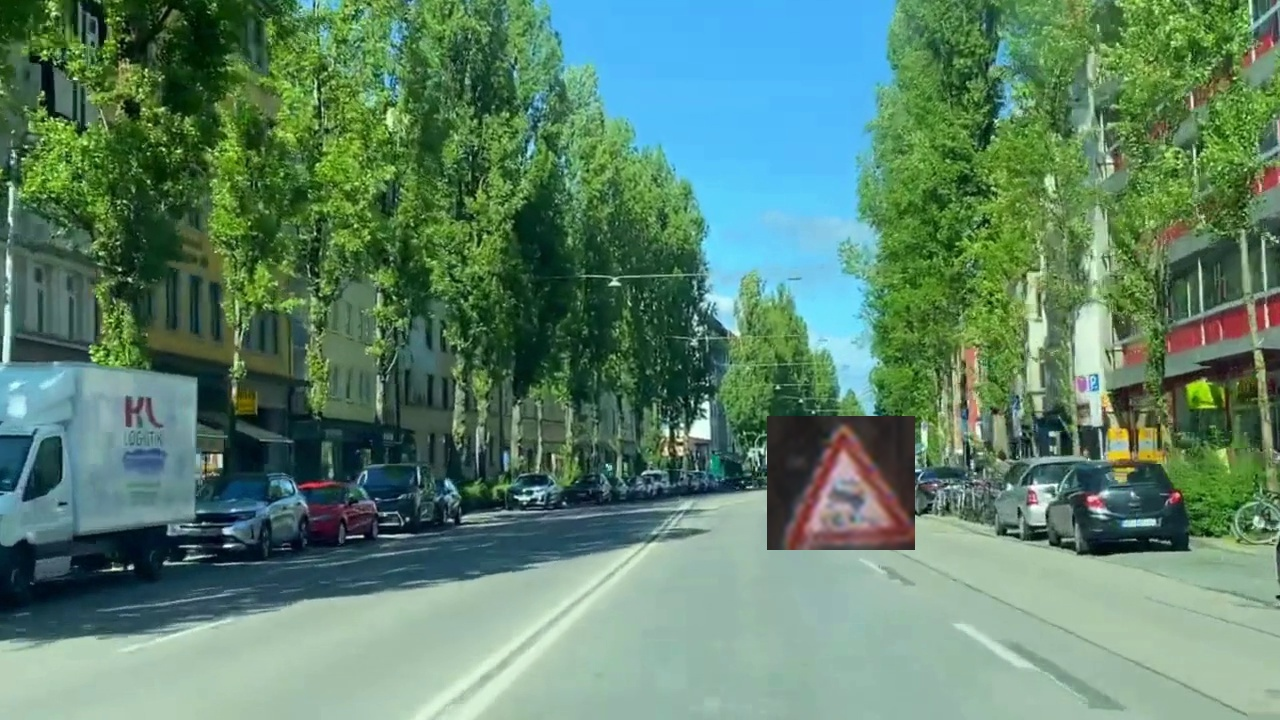Slippery: (767, 416, 915, 550)
